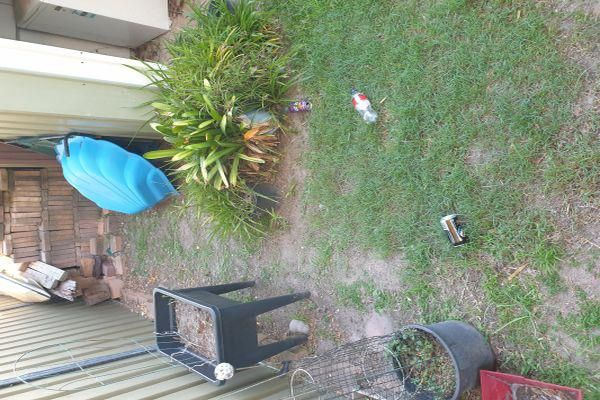Plastic Bottle: (350, 88, 379, 126), (440, 213, 470, 248), (287, 99, 313, 113)
